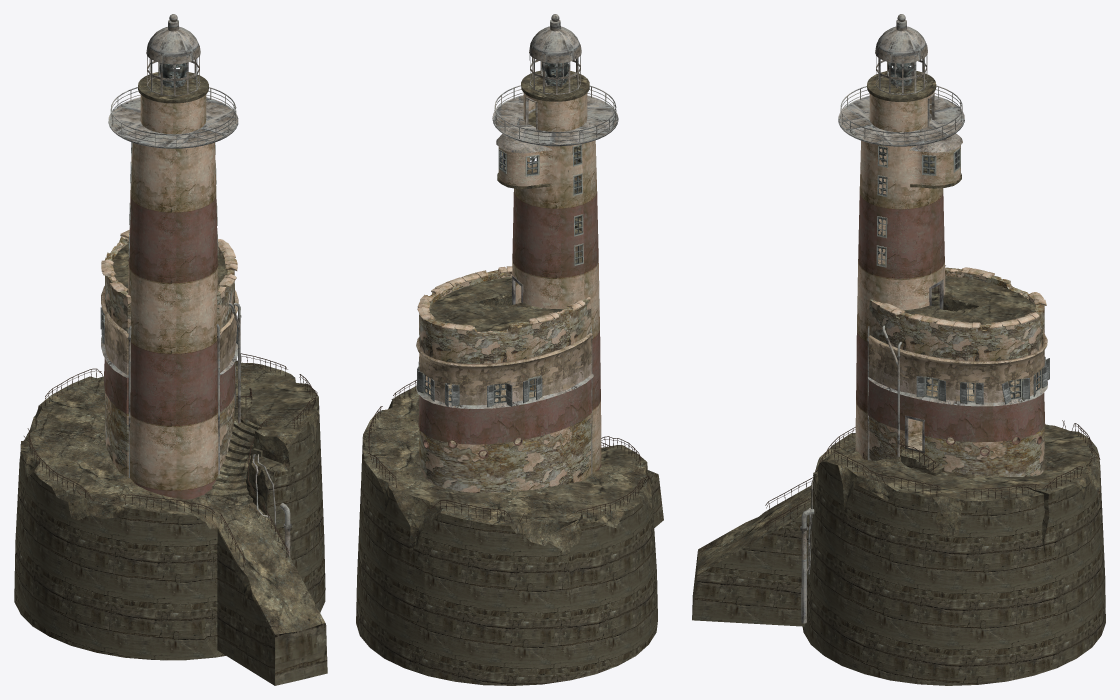
Rendered from Lighthouse.obj.
3 views of the same model, side by side, from view 1: azimuth 30°, elevation 25°; view 2: azimuth 150°, elevation 25°; view 3: azimuth 270°, elevation 25° (orthographic). The views are drawn at different scales.
Parts seen in each view (by area): view 1: b98d8325_Defuse, f779c12a_Defuse, 00925fb3_Defuse, ce35a7f8_Defuse, 7b26aa4d_Defuse, 6e2fc158_Defuse, d4afa143_Defuse, d1c3d725_Defuse, 1bda4806_Defuse; view 2: b98d8325_Defuse, f779c12a_Defuse, 6e2fc158_Defuse, d4afa143_Defuse, 00925fb3_Defuse, 7b26aa4d_Defuse, ce35a7f8_Defuse, 09dbc9a9_Defuse, d1c3d725_Defuse, 1bda4806_Defuse; view 3: b98d8325_Defuse, f779c12a_Defuse, 00925fb3_Defuse, 6e2fc158_Defuse, d4afa143_Defuse, 7b26aa4d_Defuse, ce35a7f8_Defuse, 09dbc9a9_Defuse, d1c3d725_Defuse, 1bda4806_Defuse.
Boxes of the visible parts, left/top/right/bottom form: b98d8325_Defuse: left=14, top=406, right=327, bottom=685; f779c12a_Defuse: left=21, top=72, right=325, bottom=636; 00925fb3_Defuse: left=101, top=94, right=237, bottom=490; ce35a7f8_Defuse: left=128, top=194, right=217, bottom=499; 7b26aa4d_Defuse: left=101, top=14, right=291, bottom=556; 6e2fc158_Defuse: left=105, top=236, right=234, bottom=476; d4afa143_Defuse: left=101, top=286, right=238, bottom=413; d1c3d725_Defuse: left=24, top=353, right=317, bottom=566; 1bda4806_Defuse: left=159, top=63, right=186, bottom=87; b98d8325_Defuse: left=356, top=445, right=663, bottom=685; f779c12a_Defuse: left=362, top=70, right=658, bottom=562; 6e2fc158_Defuse: left=419, top=268, right=591, bottom=492; d4afa143_Defuse: left=416, top=333, right=592, bottom=458; 00925fb3_Defuse: left=417, top=93, right=601, bottom=472; 7b26aa4d_Defuse: left=416, top=14, right=618, bottom=473; ce35a7f8_Defuse: left=512, top=191, right=601, bottom=471; 09dbc9a9_Defuse: left=417, top=144, right=583, bottom=407; d1c3d725_Defuse: left=368, top=380, right=651, bottom=523; 1bda4806_Defuse: left=425, top=62, right=582, bottom=402; b98d8325_Defuse: left=692, top=454, right=1105, bottom=685; f779c12a_Defuse: left=697, top=71, right=1100, bottom=574; 00925fb3_Defuse: left=855, top=93, right=1046, bottom=459; 6e2fc158_Defuse: left=869, top=267, right=1044, bottom=476; d4afa143_Defuse: left=868, top=334, right=1047, bottom=456; 7b26aa4d_Defuse: left=800, top=14, right=1047, bottom=623; ce35a7f8_Defuse: left=856, top=191, right=944, bottom=412; 09dbc9a9_Defuse: left=876, top=145, right=1049, bottom=404; d1c3d725_Defuse: left=764, top=285, right=1100, bottom=531; 1bda4806_Defuse: left=877, top=62, right=1040, bottom=398.
Size of the model in its own units: 30.45 by 65.41 by 41.17.
14 materials, 14 textured.
